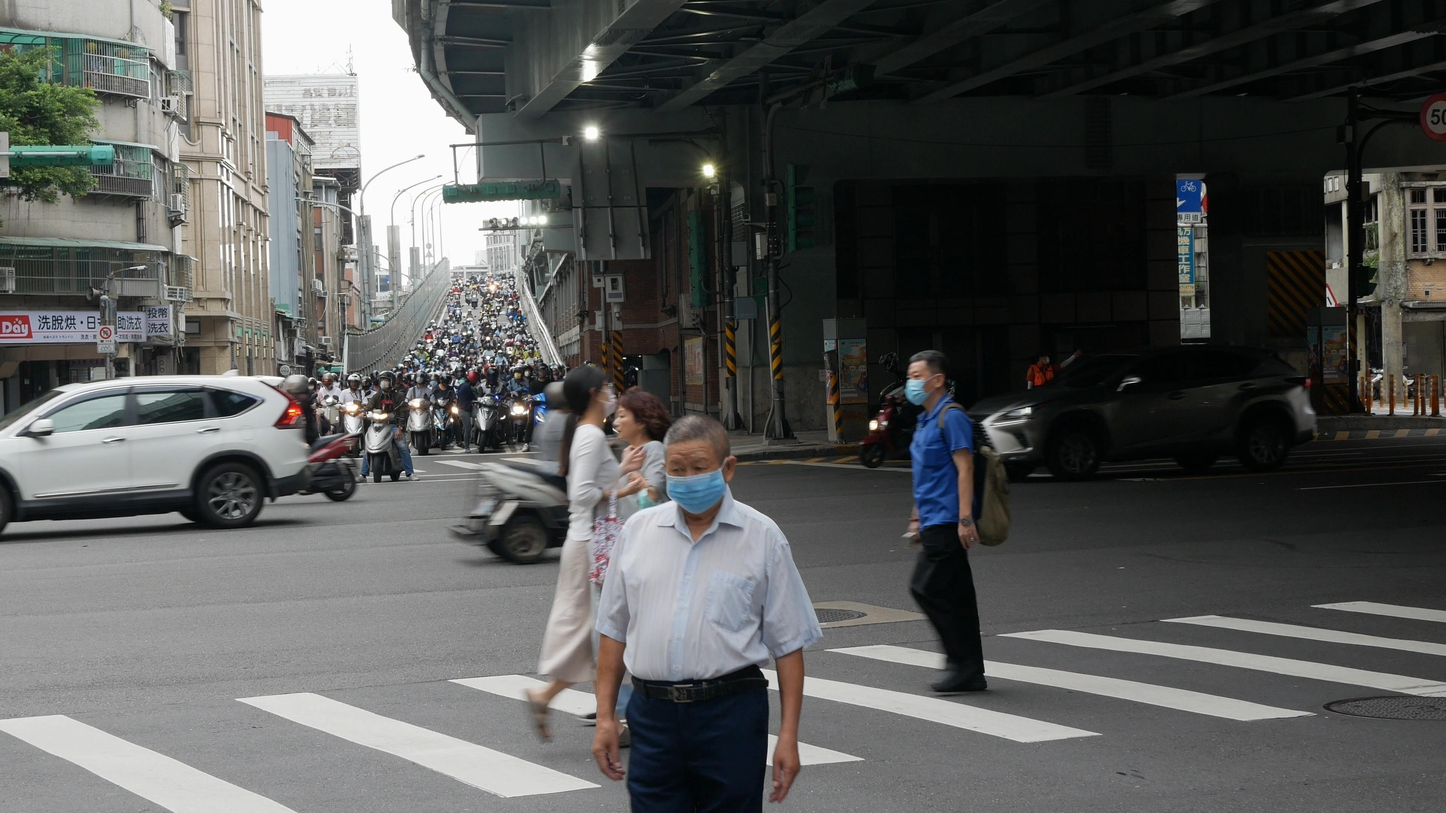driver: (478, 381, 570, 564), (283, 374, 363, 502), (354, 371, 420, 483), (471, 367, 516, 453), (399, 369, 440, 456), (333, 373, 370, 458), (521, 362, 552, 452), (433, 371, 465, 451)
helmet: (284, 374, 309, 394), (376, 371, 396, 390), (486, 367, 499, 386), (466, 371, 481, 387), (347, 374, 361, 390), (414, 370, 428, 385), (535, 362, 548, 378), (322, 372, 334, 389), (440, 371, 452, 387), (361, 376, 372, 391)
no-helmet: (660, 412, 737, 515), (612, 385, 672, 441), (563, 363, 619, 418), (903, 350, 951, 406)
